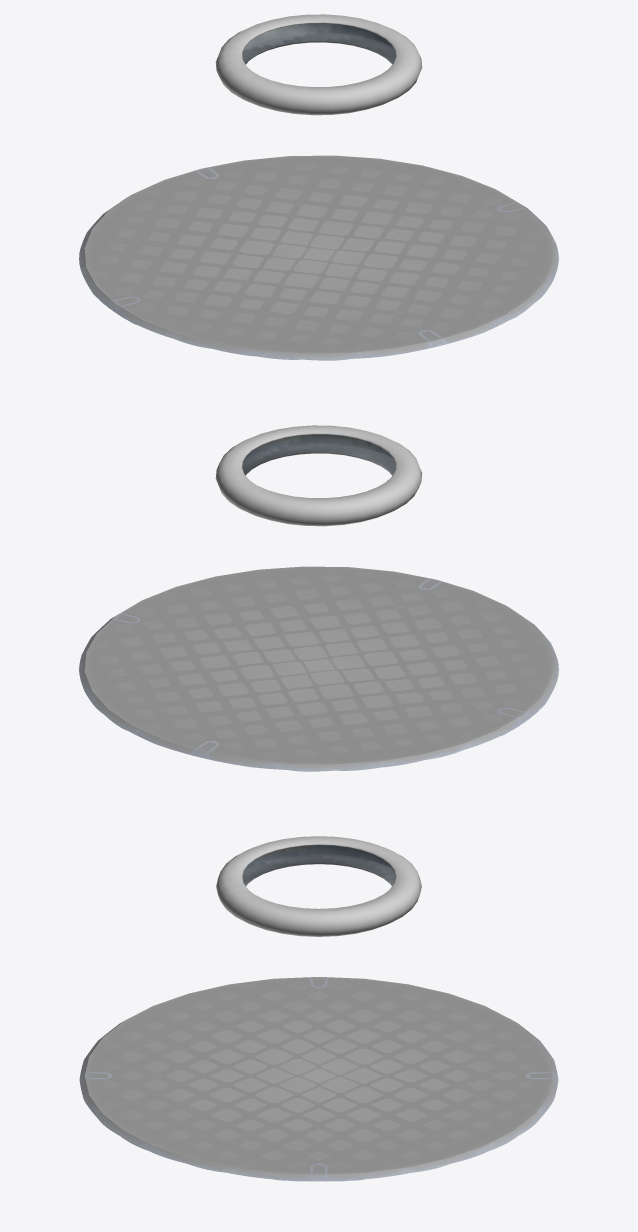
File: pref_TPC_v2_NeutralScoreArea03_winter_purple_idle_lv2.fbx
3 views of the same model, one above another, from view 1: azimuth 30°, elevation 25°; view 2: azimuth 150°, elevation 25°; view 3: azimuth 270°, elevation 25° (orthographic).
Parts seen in each view (by area): view 1: sm_prop_platform06a_lv2, fresnel (2), sm_prop_platform06b_lv2; view 2: sm_prop_platform06a_lv2, fresnel (2), sm_prop_platform06b_lv2; view 3: sm_prop_platform06a_lv2, fresnel (2), sm_prop_platform06b_lv2.
Boxes of the visible parts, left/top/right/bottom form: sm_prop_platform06a_lv2: left=79, top=155, right=558, bottom=360; fresnel (2): left=215, top=14, right=422, bottom=115; sm_prop_platform06b_lv2: left=242, top=22, right=395, bottom=64; sm_prop_platform06a_lv2: left=79, top=566, right=558, bottom=771; fresnel (2): left=215, top=425, right=422, bottom=526; sm_prop_platform06b_lv2: left=242, top=433, right=395, bottom=475; sm_prop_platform06a_lv2: left=79, top=977, right=558, bottom=1181; fresnel (2): left=216, top=836, right=421, bottom=936; sm_prop_platform06b_lv2: left=242, top=844, right=395, bottom=885.
Size of the model in its own units: 7.46 by 2.88 by 7.46.
